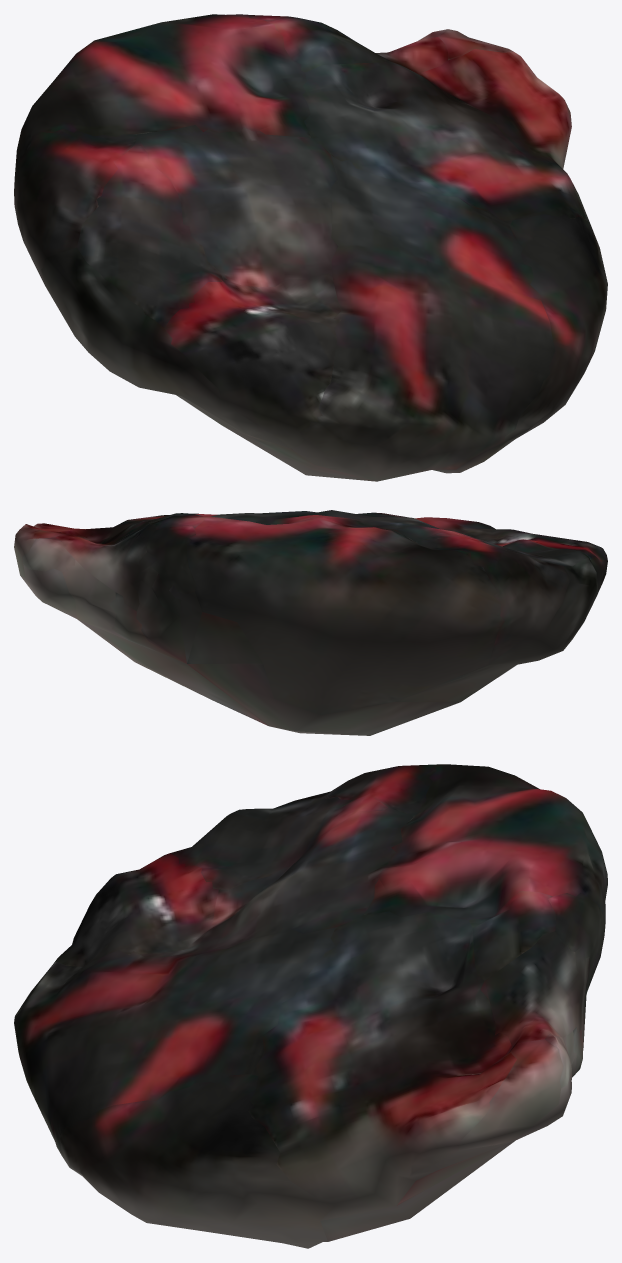
File: hall.glb
3 renders of one model, top to bottom at view 1: azimuth 30°, elevation 25°; view 2: azimuth 150°, elevation 25°; view 3: azimuth 270°, elevation 25°, orthographic. The views are drawn at different scales.
Bounding box in the file's own units: 0.3178 × 0.1825 × 0.2738.
1 material, 1 textured.
